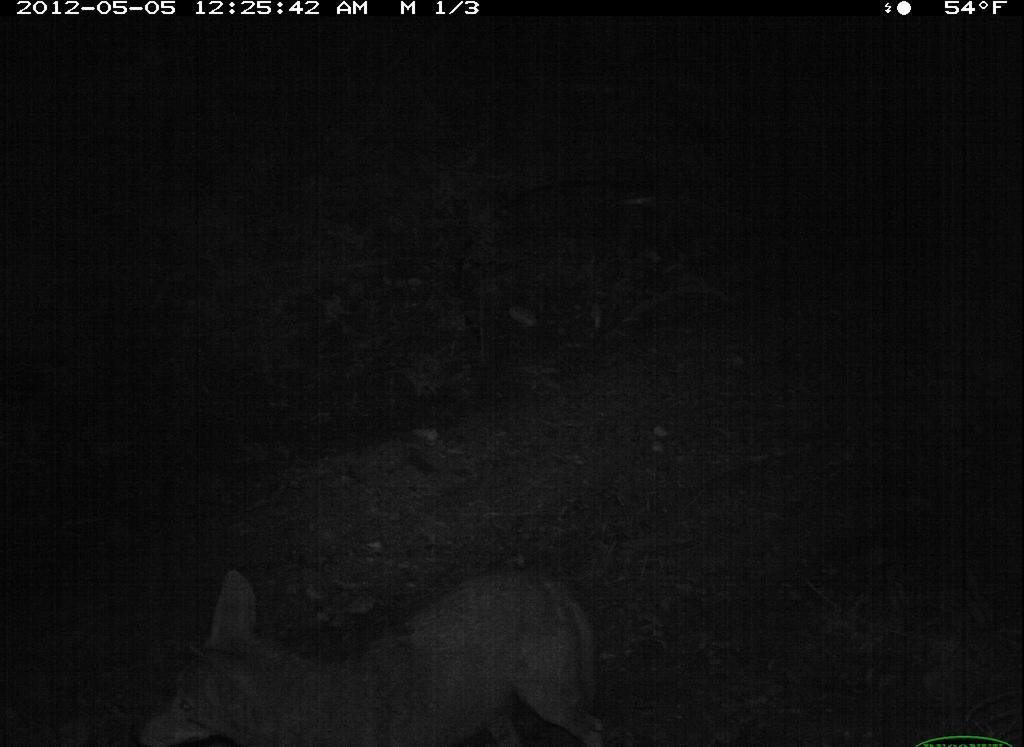coyote: (137, 566, 609, 747)
